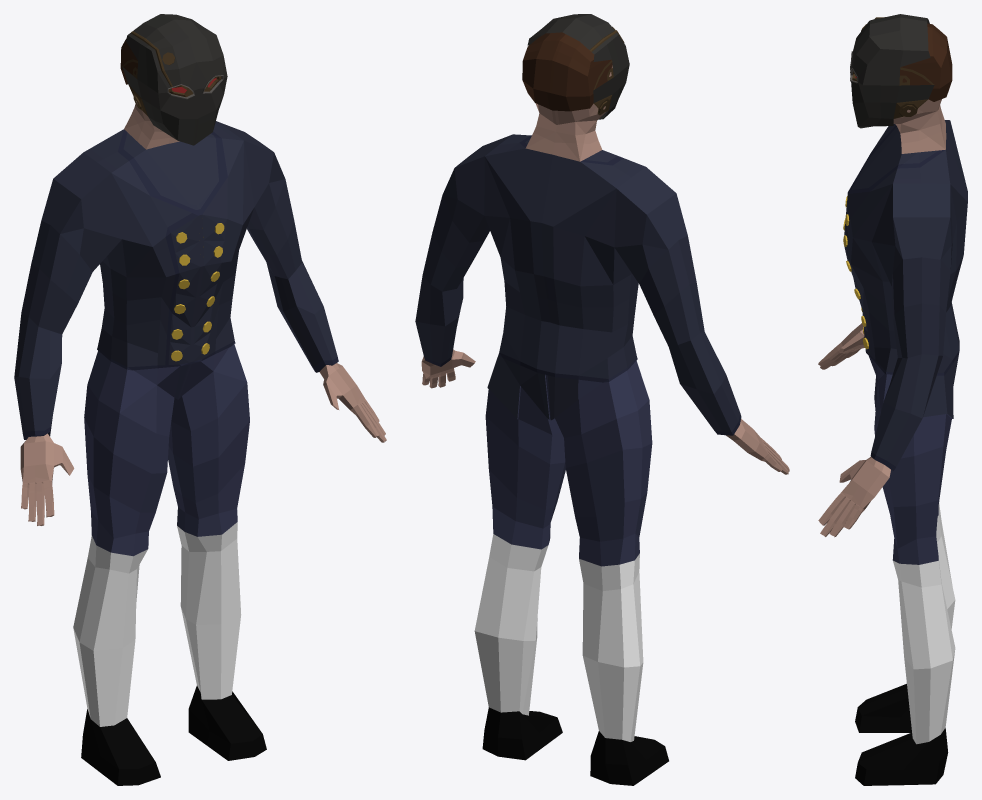
File: Masked Man.fbx
3 renders of one model, left to right at view 1: azimuth 30°, elevation 25°; view 2: azimuth 150°, elevation 25°; view 3: azimuth 270°, elevation 25°, orthographic.
Visible parts, largest first — view 1: Masked Man; view 2: Masked Man; view 3: Masked Man.
Part boxes in pixels (left/top/right/bottom): Masked Man: left=14, top=14, right=386, bottom=785; Masked Man: left=415, top=14, right=789, bottom=785; Masked Man: left=818, top=14, right=967, bottom=785.
Size of the model in its own units: 246 by 482 by 89.34.
